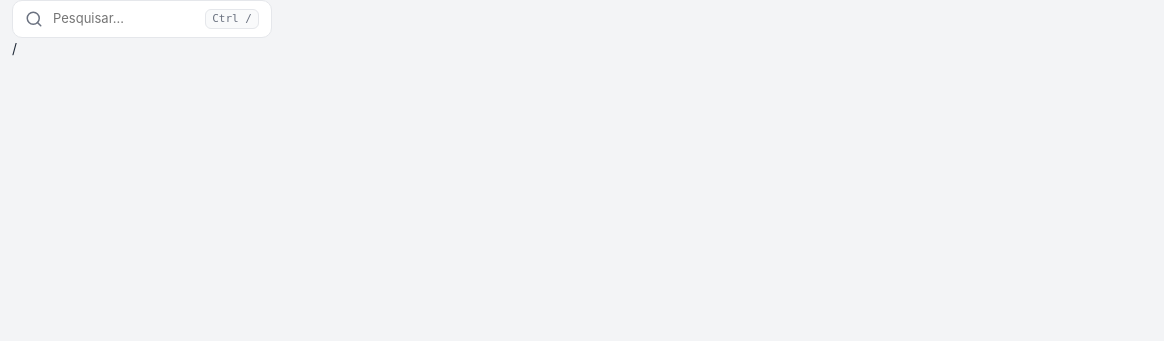
Test case: GlobalSearch › Ctrl+/ foca o campo e agrupa resultados; setas e Enter navegam
Type keys "{Control>}/{/Control}"
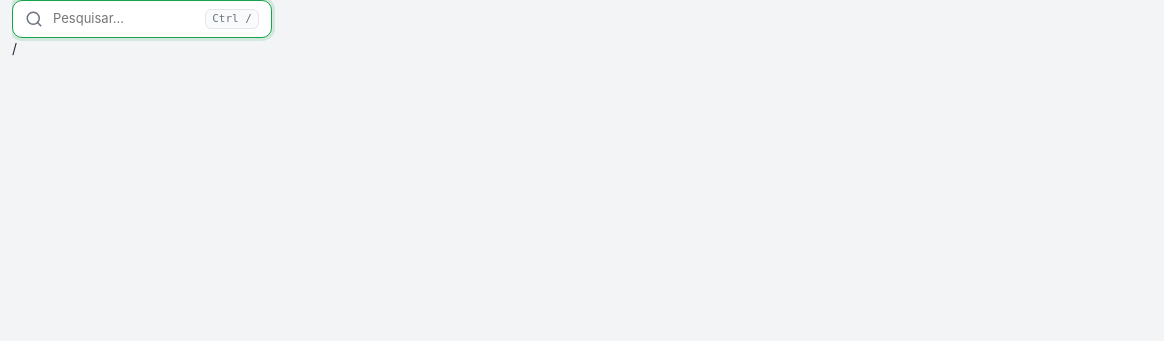
Type "rio" into the dropdown named "Pesquisa global" at (124, 19), box [51, 8, 197, 30]
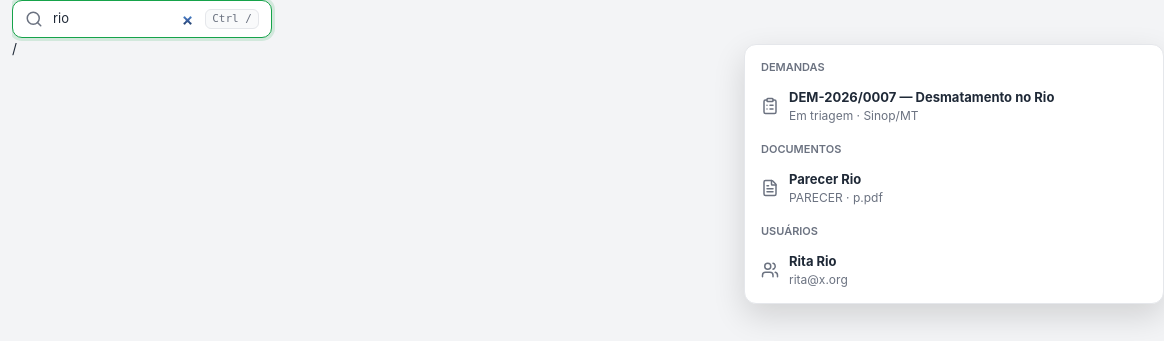
Expected: the text "DEM-2026/0007 — Desmatamento no Rio" is shown, [789, 88, 1054, 107]
Expected: the text "Documentos" is shown, [761, 142, 841, 156]
Expected: the text "Rita Rio" is shown, [789, 252, 836, 268]
Press Arrowdown Arrowdown Enter
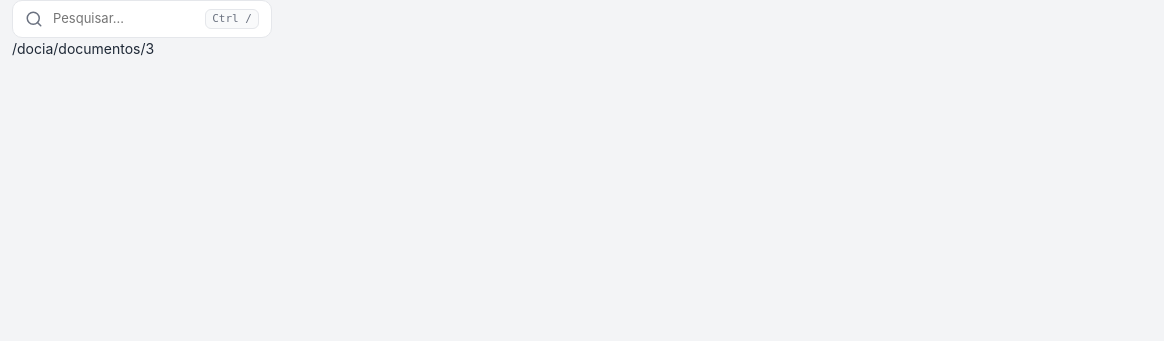
Expected: the text with test id "local" reads "/docia/documentos/3", [12, 40, 154, 57]
